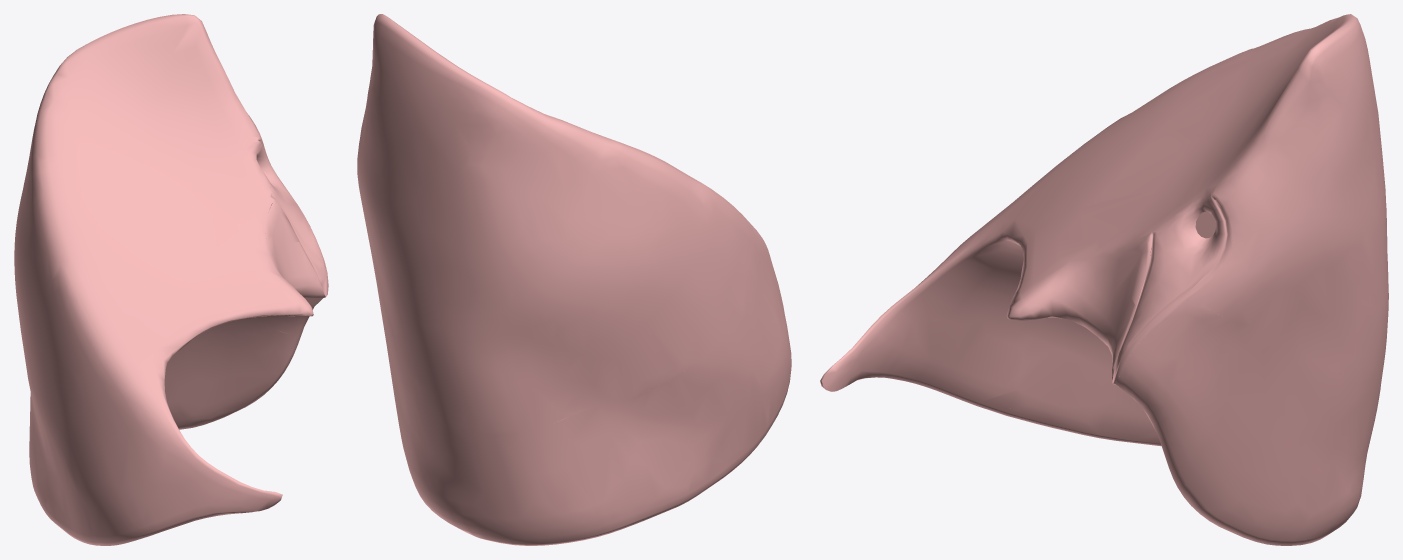
Rendered from visceras-inferior-lobe-of-right-lung.glb.
3 renders of one model, left to right at view 1: azimuth 30°, elevation 25°; view 2: azimuth 150°, elevation 25°; view 3: azimuth 270°, elevation 25°, orthographic. The views are drawn at different scales.
Visible parts, largest first — view 1: Inferior lobe of right lung; view 2: Inferior lobe of right lung; view 3: Inferior lobe of right lung.
Part boxes in pixels (bbox=[...]): Inferior lobe of right lung: bbox=[14, 14, 328, 545]; Inferior lobe of right lung: bbox=[357, 14, 791, 545]; Inferior lobe of right lung: bbox=[820, 14, 1388, 545].
Bounding box in the file's own units: 0.1284 × 0.1805 × 0.1758.
